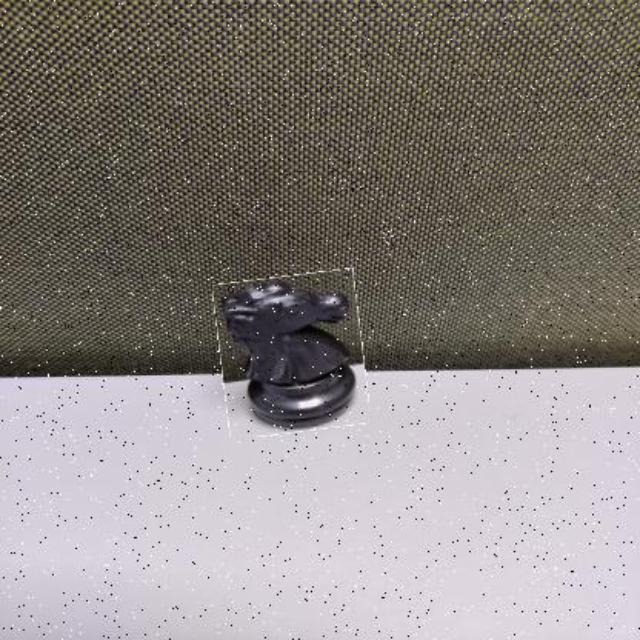black-knight: (217, 271, 366, 434)
